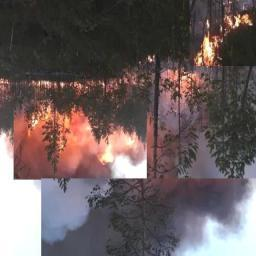Heavy smoke: (43, 85, 247, 255)
Large fire: (0, 13, 248, 119)
